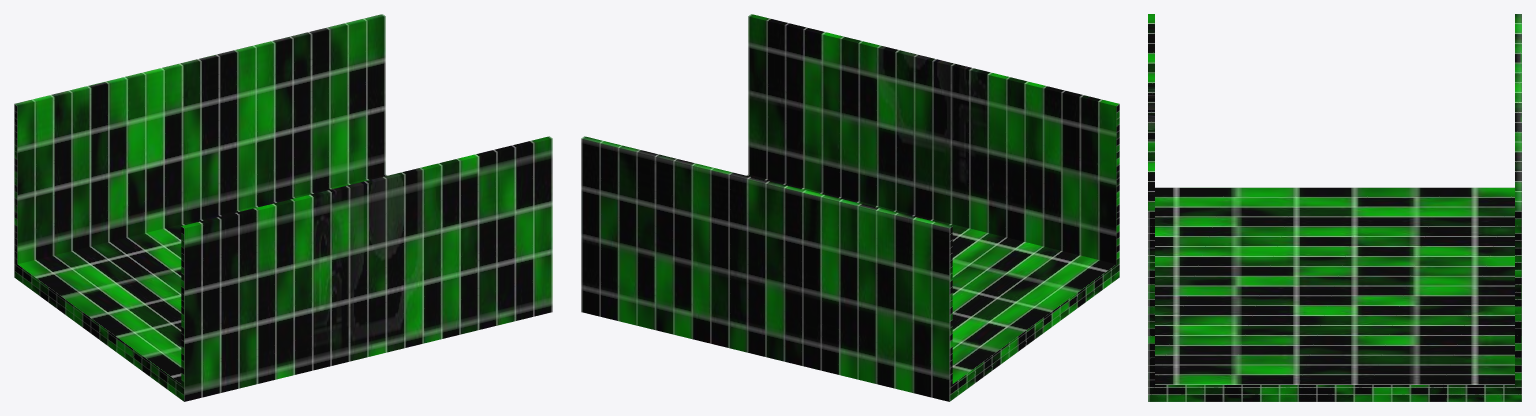
Rendered from CorridorPiece.FBX.
3 renders of one model, left to right at view 1: azimuth 30°, elevation 25°; view 2: azimuth 150°, elevation 25°; view 3: azimuth 270°, elevation 25°, orthographic. The views are drawn at different scales.
Visible parts, largest first — view 1: C-Ext001; view 2: C-Ext001; view 3: C-Ext001.
Boxes of the visible parts, x1,y1,x2,y2 form: C-Ext001: (14, 14, 552, 401); C-Ext001: (581, 14, 1119, 401); C-Ext001: (1148, 14, 1521, 401).
Size of the model in its own units: 200 by 90 by 160.
1 material, 1 textured.
